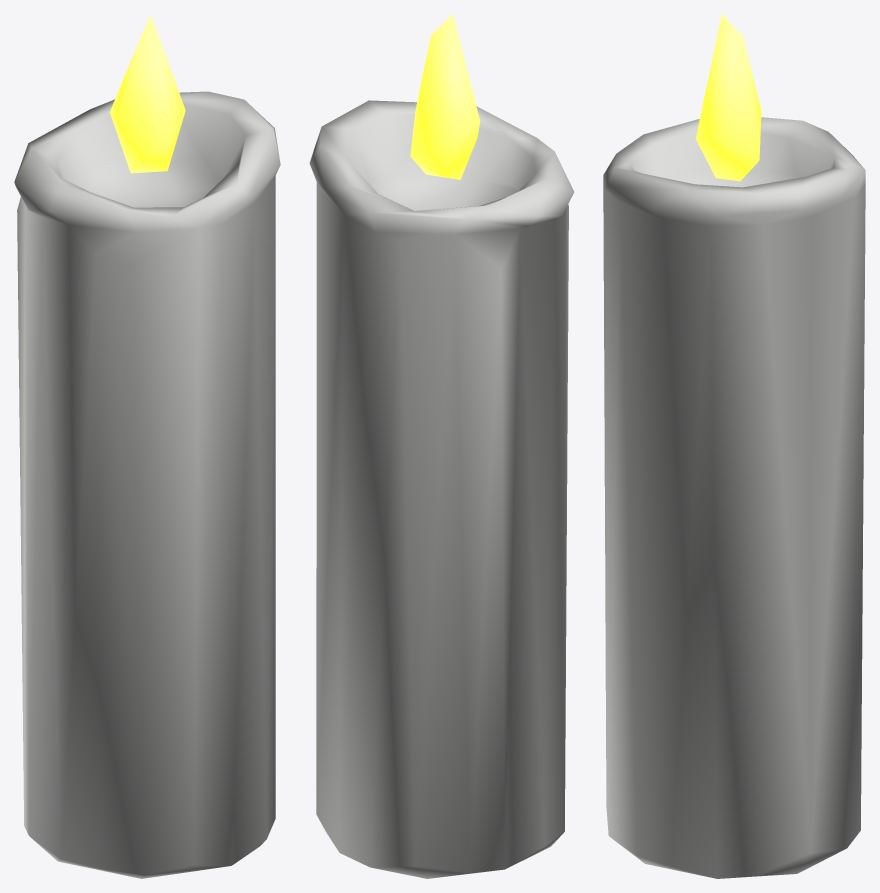
3 renders of one model, left to right at view 1: azimuth 30°, elevation 25°; view 2: azimuth 150°, elevation 25°; view 3: azimuth 270°, elevation 25°, orthographic.
Parts seen in each view (by area): view 1: Cube.001; view 2: Cube.001; view 3: Cube.001.
Part boxes in pixels (<box>): Cube.001: <box>14,14,280,878</box>; Cube.001: <box>309,14,574,878</box>; Cube.001: <box>603,14,865,878</box>.
Bounding box in the file's own units: 0.0456 × 0.1496 × 0.0435.
